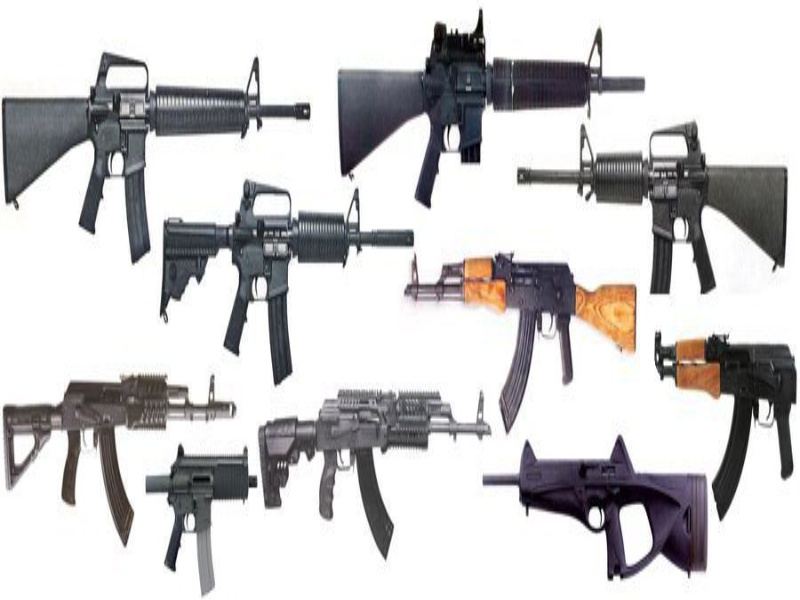gun: (8, 33, 315, 261), (335, 15, 654, 209), (153, 170, 423, 368), (510, 121, 798, 306), (401, 249, 648, 430), (5, 367, 239, 543), (265, 382, 494, 561), (484, 443, 727, 588), (652, 328, 798, 529), (157, 436, 262, 598)
